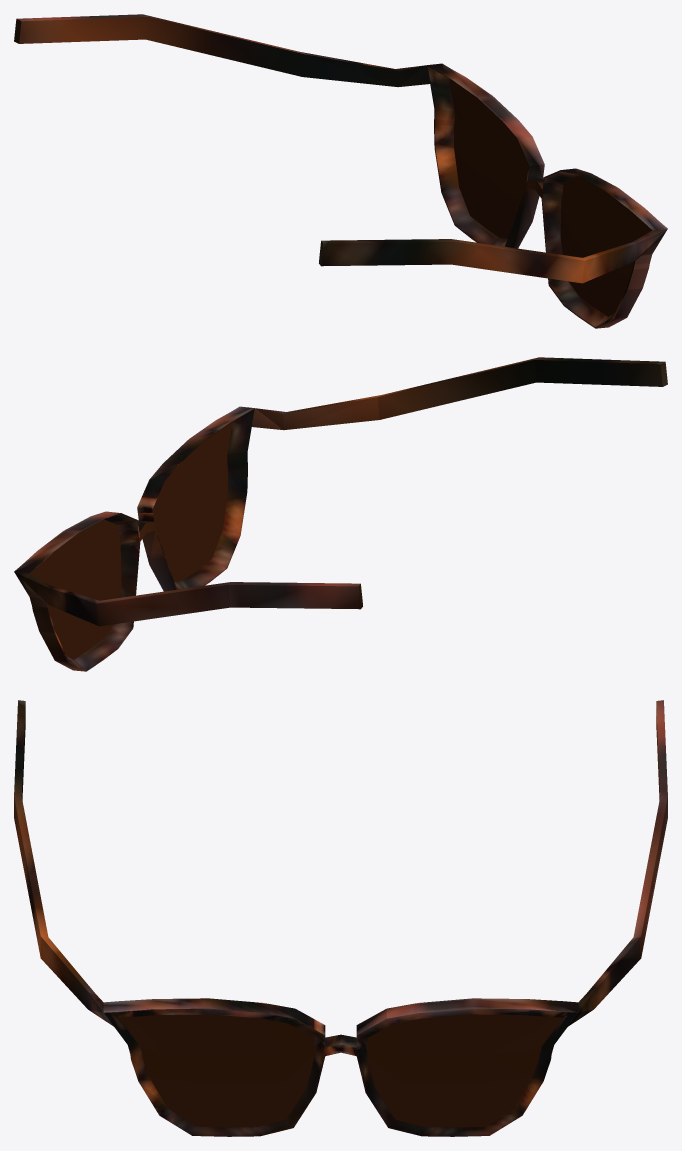
File: TORTOISESHELL SUNGLASSES.fbx
3 renders of one model, top to bottom at view 1: azimuth 30°, elevation 25°; view 2: azimuth 150°, elevation 25°; view 3: azimuth 270°, elevation 25°, orthographic. The views are drawn at different scales.
Visible parts, largest first — view 1: TORTOISESHELL_SUNGLASSES; view 2: TORTOISESHELL_SUNGLASSES; view 3: TORTOISESHELL_SUNGLASSES.
Part boxes in pixels (box(x1,y1,x2,y2)): TORTOISESHELL_SUNGLASSES: box(14, 14, 667, 328); TORTOISESHELL_SUNGLASSES: box(14, 357, 667, 671); TORTOISESHELL_SUNGLASSES: box(14, 700, 667, 1136).
Bounding box in the file's own units: 17.11 × 9.92 × 23.74.
